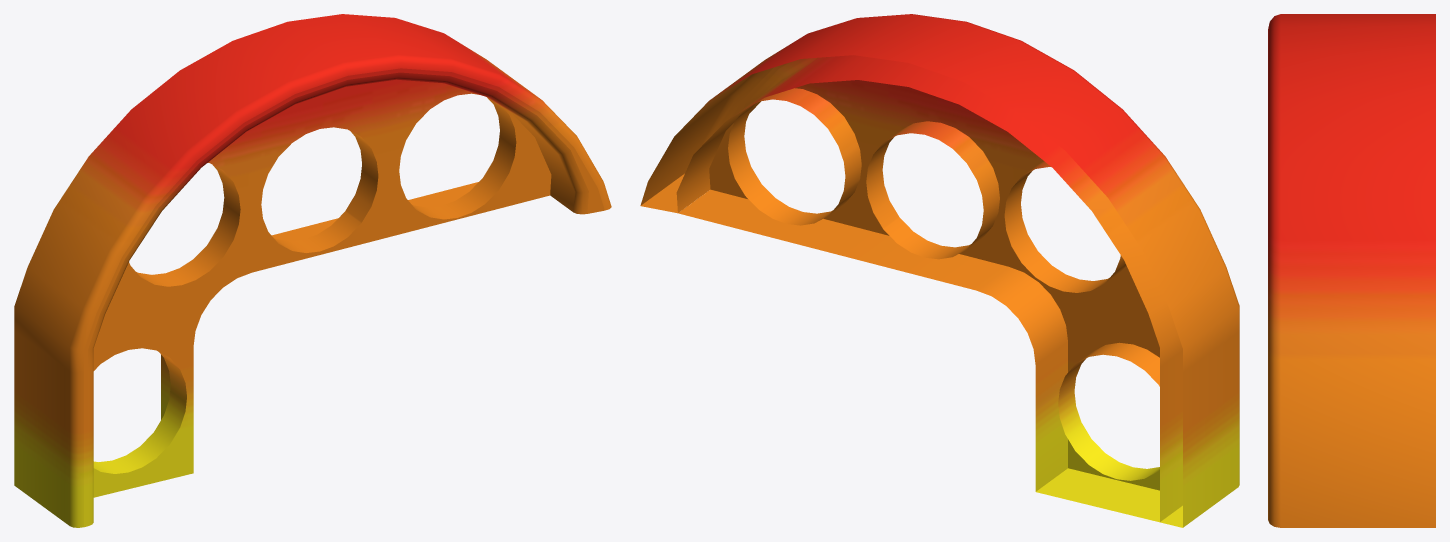
The model's file is Amongus02_Cut_003_0.FBX.
3 renders of one model, left to right at view 1: azimuth 30°, elevation 25°; view 2: azimuth 150°, elevation 25°; view 3: azimuth 270°, elevation 25°, orthographic. The views are drawn at different scales.
Visible parts, largest first — view 1: Amongus02_Cut_003_0; view 2: Amongus02_Cut_003_0; view 3: Amongus02_Cut_003_0.
Boxes of the visible parts, x1,y1,x2,y2 form: Amongus02_Cut_003_0: (14,14,611,527); Amongus02_Cut_003_0: (640,14,1239,527); Amongus02_Cut_003_0: (1268,14,1435,527).
Bounding box in the file's own units: 3.24 × 0.6244 × 2.27.
